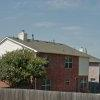Chimney: (11, 23, 31, 44)
